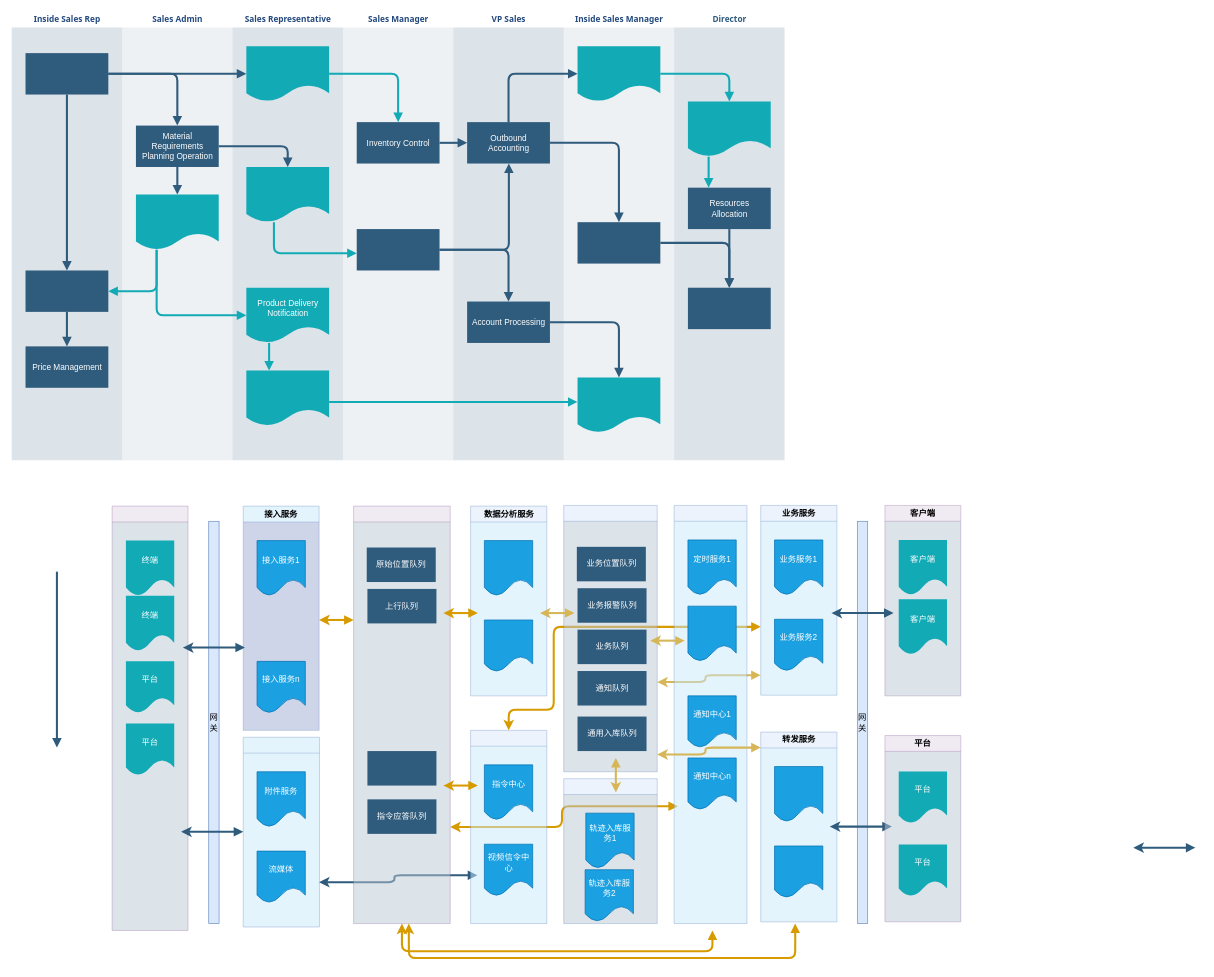
Image size: 1214x977. Some labels were removed from this diagram. The box of each missing label's shape, as (x1, y1, x2, y2) in pixels:
Bills: (577, 377, 660, 432)
Cost Allocation: (577, 222, 660, 263)
Credit Management: (25, 270, 108, 312)
Customer Management: (25, 53, 108, 94)
Facilities Procurement Application: (136, 194, 218, 249)
Invoice: (246, 370, 329, 425)
Long Term Strategy: (688, 287, 770, 329)
Orders: (246, 167, 329, 222)
Outbounding Management: (688, 101, 770, 156)
Product Delivery: (356, 229, 439, 270)
Product Quotations: (246, 46, 329, 101)
Sales Contract: (577, 46, 660, 101)
定时服务n: (687, 605, 736, 661)
平台业务相关队列: (563, 505, 657, 772)
待发送指令队列: (367, 751, 436, 785)
数据分析服务1: (484, 540, 533, 596)
数据分析服务n: (484, 619, 533, 672)
终端、平台: (111, 505, 188, 930)
跟终端关联的队列: (353, 505, 450, 924)
转发服务1: (774, 766, 823, 822)
转发服务2: (774, 845, 823, 898)
